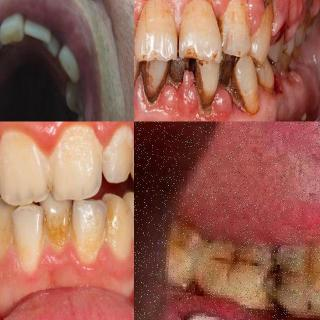Gum Swelling: (134, 68, 306, 122), (0, 242, 87, 285), (0, 122, 112, 154)
calculus: (220, 46, 247, 116), (193, 56, 217, 110), (166, 51, 190, 90)
cavities: (244, 247, 304, 293)
maligned: (53, 122, 103, 198), (0, 124, 46, 206), (13, 200, 42, 270), (72, 196, 100, 266), (44, 188, 72, 250), (104, 200, 132, 260), (58, 47, 84, 81), (0, 202, 14, 262), (43, 31, 61, 58)
plaque: (56, 129, 102, 177), (0, 129, 44, 175), (110, 124, 134, 162)
stains: (14, 220, 42, 274), (72, 214, 102, 264), (104, 207, 132, 253), (46, 204, 71, 255), (142, 58, 166, 108), (258, 62, 279, 104), (0, 220, 14, 261)
